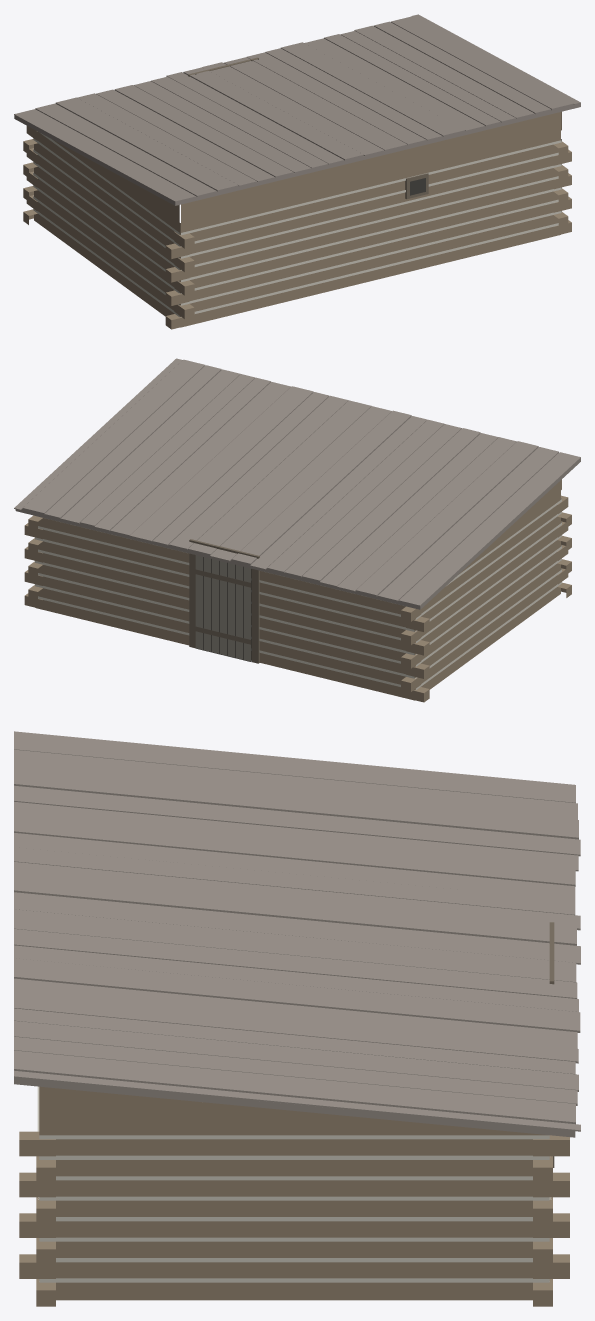
Rendered from estray_pen__pen_1833.glb.
3 renders of one model, top to bottom at view 1: azimuth 30°, elevation 25°; view 2: azimuth 150°, elevation 25°; view 3: azimuth 270°, elevation 25°, orthographic. The views are drawn at different scales.
Parts seen in each view (by area): view 1: estray_pen__pen_1833; view 2: estray_pen__pen_1833; view 3: estray_pen__pen_1833.
Boxes of the visible parts, left/top/right/bottom form: estray_pen__pen_1833: left=14, top=14, right=580, bottom=329; estray_pen__pen_1833: left=14, top=358, right=580, bottom=702; estray_pen__pen_1833: left=14, top=731, right=580, bottom=1306.
Bounding box in the file's own units: 9.75 × 3.11 × 6.77.
